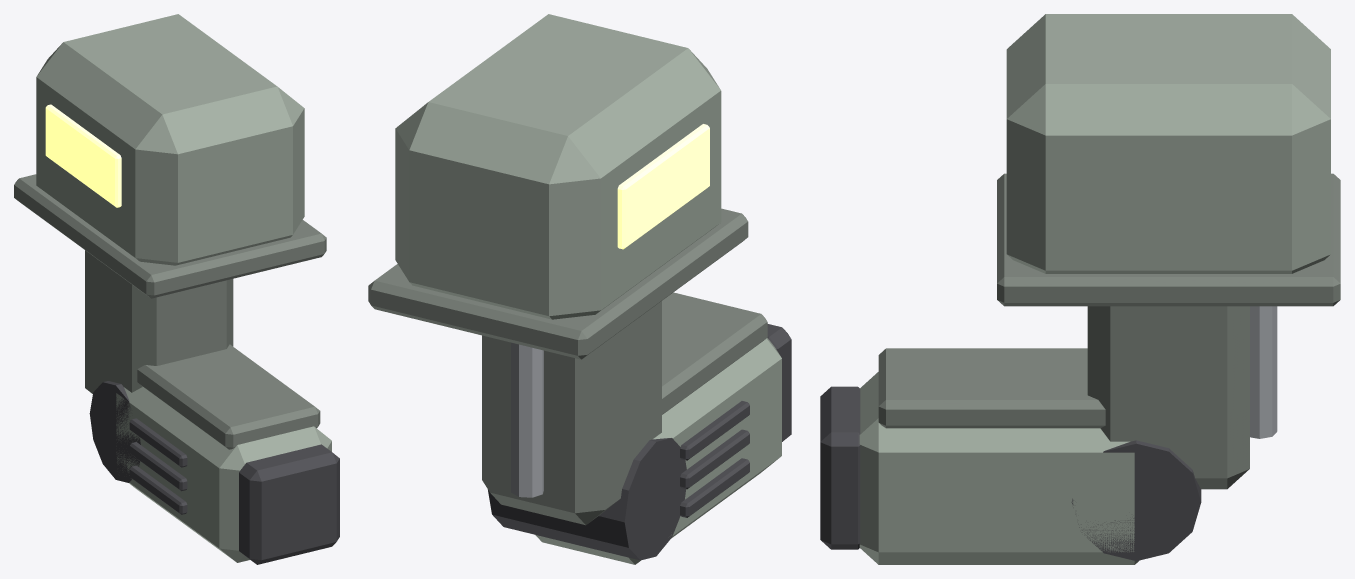
Rendered from medium-armR.glb.
3 views of the same model, side by side, from view 1: azimuth 30°, elevation 25°; view 2: azimuth 150°, elevation 25°; view 3: azimuth 270°, elevation 25° (orthographic). The views are drawn at different scales.
Parts seen in each view (by area): view 1: armR, joint.forearm, joint.pivot; view 2: armR, joint.pivot, joint.forearm; view 3: armR, joint.forearm, joint.pivot.
Part boxes in pixels (<box>): armR: <box>14,14,326,298</box>; joint.forearm: <box>116,344,339,564</box>; joint.pivot: <box>85,250,233,482</box>; armR: <box>368,14,748,359</box>; joint.pivot: <box>482,301,686,560</box>; joint.forearm: <box>535,292,791,564</box>; armR: <box>997,14,1340,306</box>; joint.forearm: <box>820,348,1138,564</box>; joint.pivot: <box>1071,306,1277,561</box>.
Bounding box in the file's own units: 0.8 × 1.7 × 1.6.
